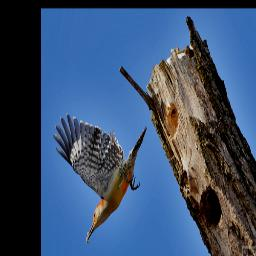Woodpecker: (52, 111, 148, 245)
